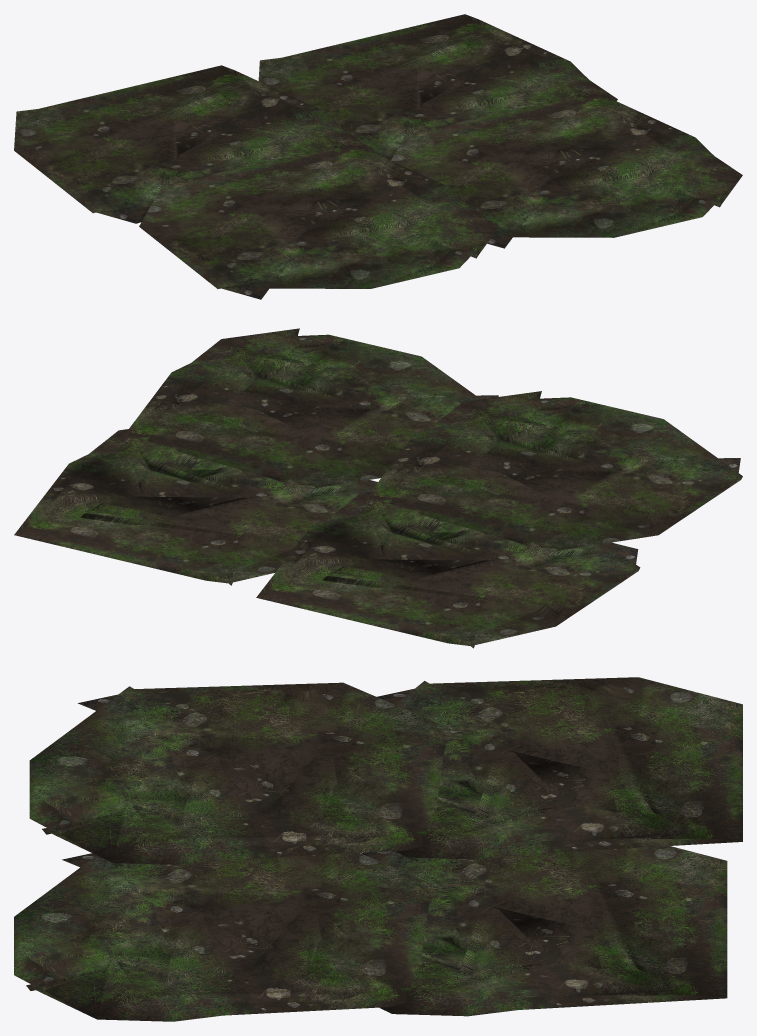
File: road.glb
3 renders of one model, top to bottom at view 1: azimuth 30°, elevation 25°; view 2: azimuth 150°, elevation 25°; view 3: azimuth 270°, elevation 25°, orthographic. The views are drawn at different scales.
Visible parts, largest first — view 1: Group2 Copy.001, Group2 Copy.002, Group2, Group2.001; view 2: Group2 Copy.001, Group2 Copy.002, Group2, Group2.001; view 3: Group2 Copy.001, Group2 Copy.002, Group2, Group2.001.
Part boxes in pixels (x1,y1,x2,y2): Group2 Copy.001: [139, 146, 499, 299]; Group2 Copy.002: [391, 95, 742, 248]; Group2: [14, 65, 374, 223]; Group2.001: [258, 14, 617, 160]; Group2 Copy.001: [367, 391, 742, 551]; Group2 Copy.002: [125, 328, 498, 488]; Group2: [256, 491, 640, 648]; Group2.001: [14, 429, 377, 585]; Group2 Copy.001: [29, 682, 445, 864]; Group2 Copy.002: [14, 843, 429, 1021]; Group2: [377, 677, 742, 859]; Group2.001: [361, 839, 727, 1016].
Size of the model in its own units: 12.54 by 0.3343 by 11.41.
Materials: 1 (1 with a texture image).
